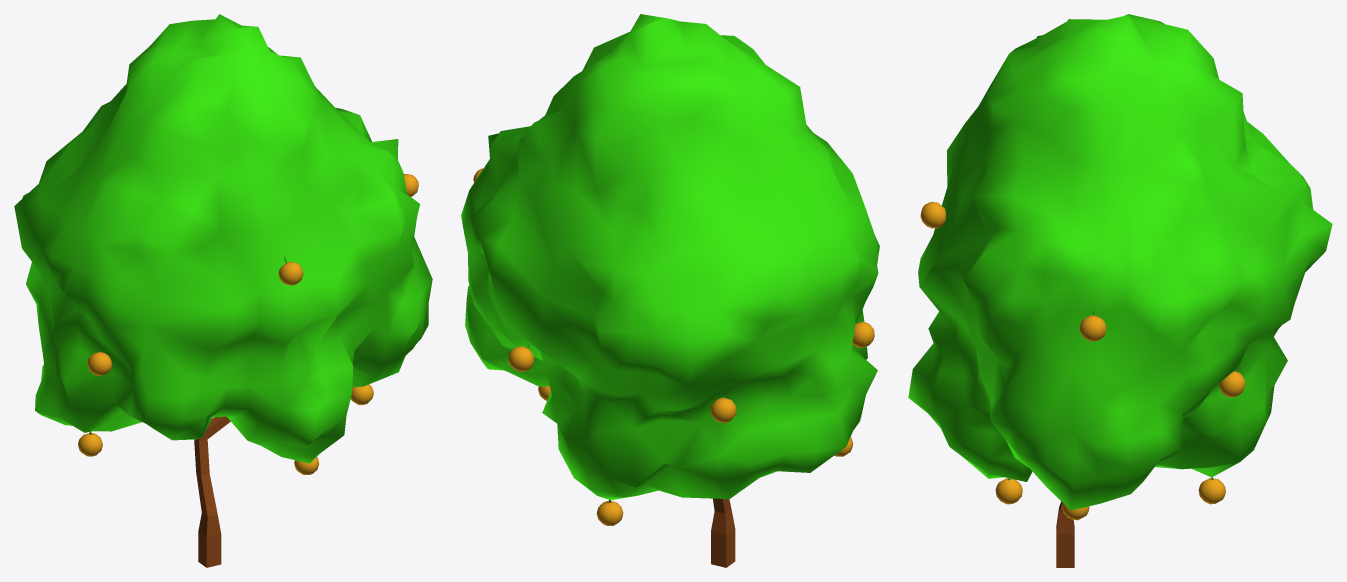
The model's file is SM_OrangeTree_002_LOD2.fbx.
The picture shows the model from 3 angles, left to right: view 1: azimuth 30°, elevation 25°; view 2: azimuth 150°, elevation 25°; view 3: azimuth 270°, elevation 25°; orthographic projection. The views are drawn at different scales.
Visible parts, largest first — view 1: OrangeTree_02; view 2: OrangeTree_02; view 3: OrangeTree_02.
Part boxes in pixels (x1,y1,x2,y2): OrangeTree_02: [14, 14, 432, 567]; OrangeTree_02: [461, 14, 879, 567]; OrangeTree_02: [908, 14, 1332, 567].
Bounding box in the file's own units: 291 × 391 × 264.
